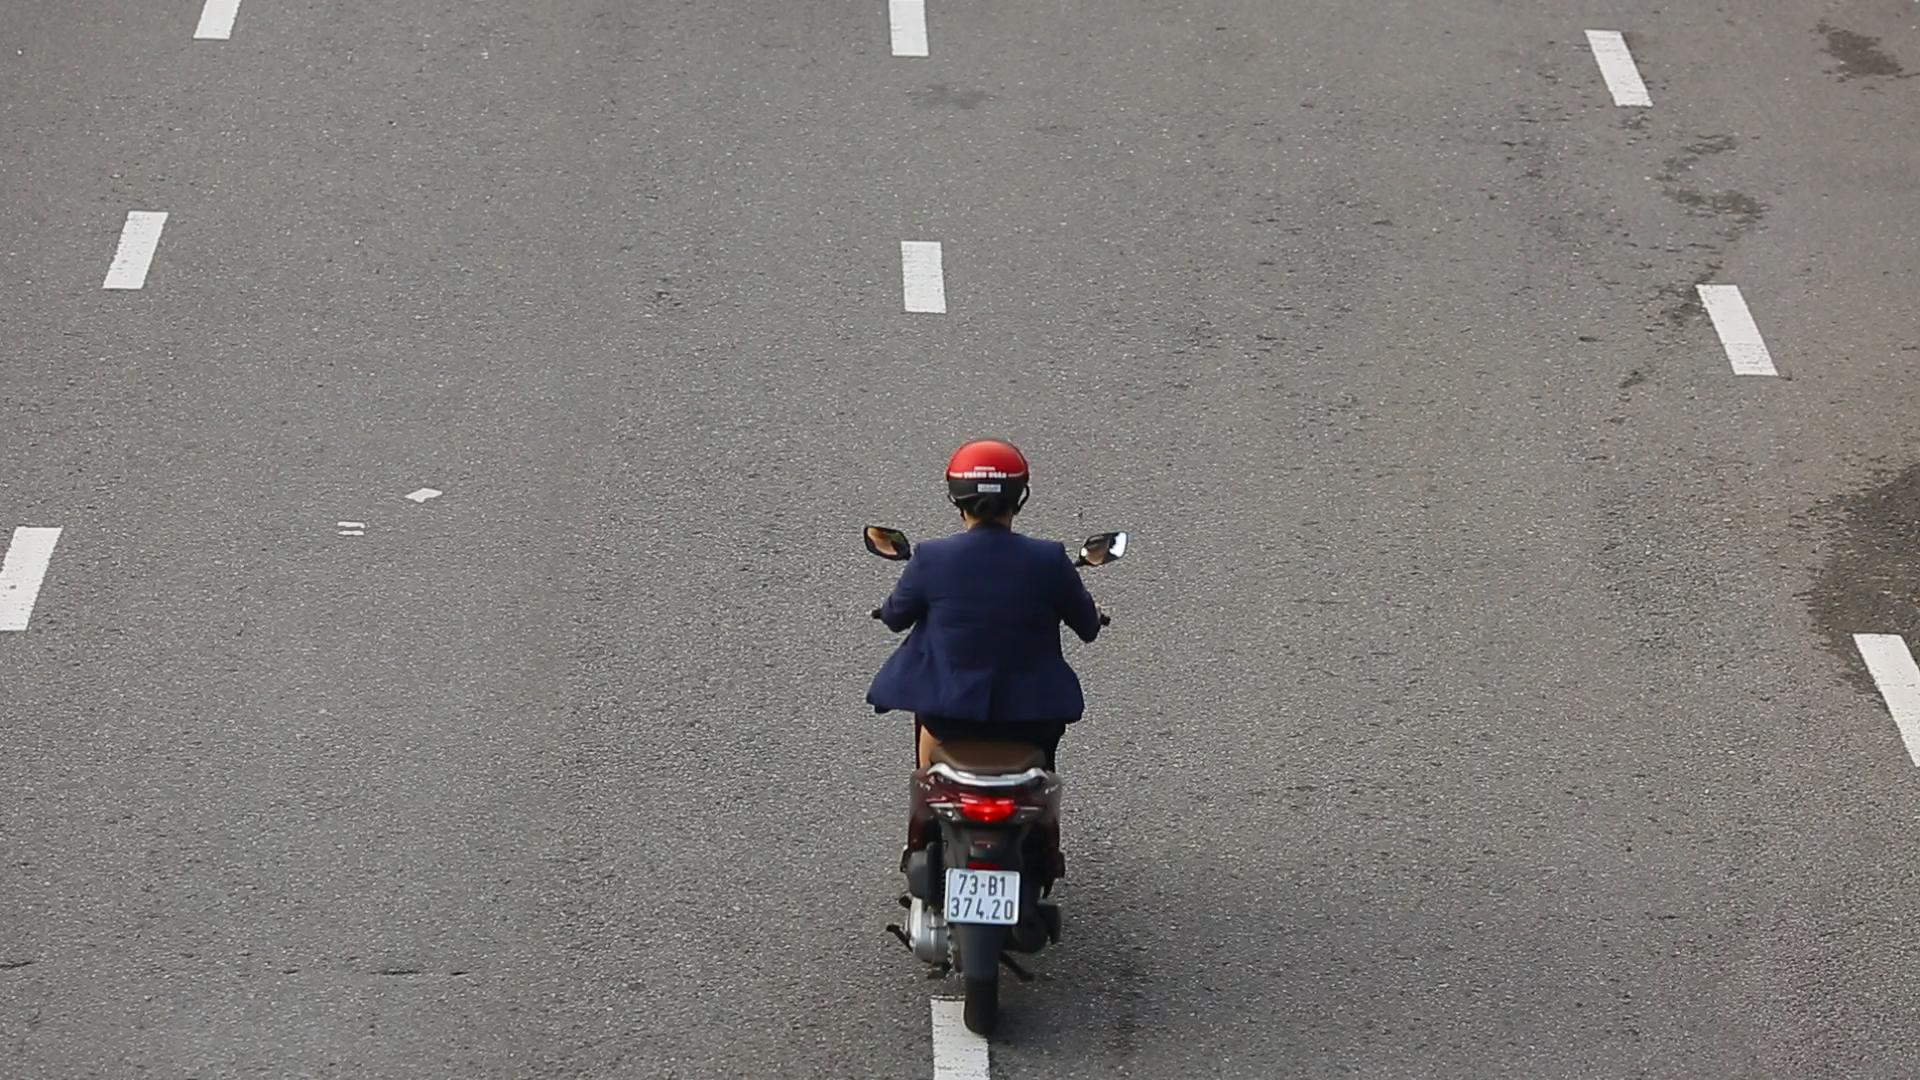motobike: (843, 430, 1130, 1043)
